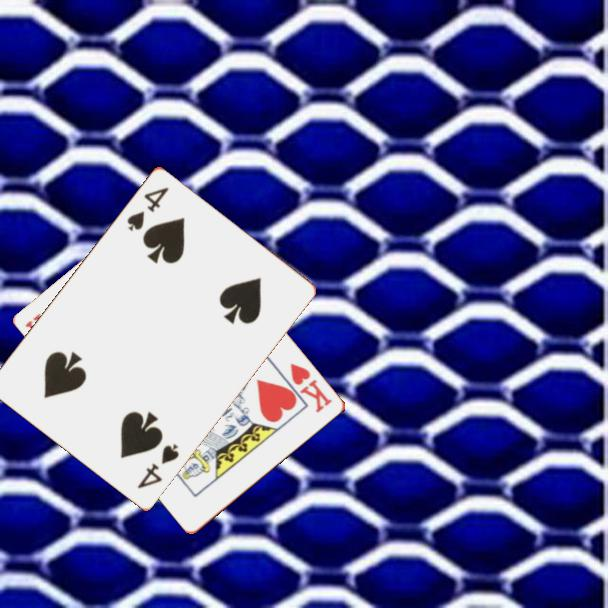h13: (287, 359, 336, 416)
s04: (123, 183, 172, 234), (134, 439, 182, 491)
